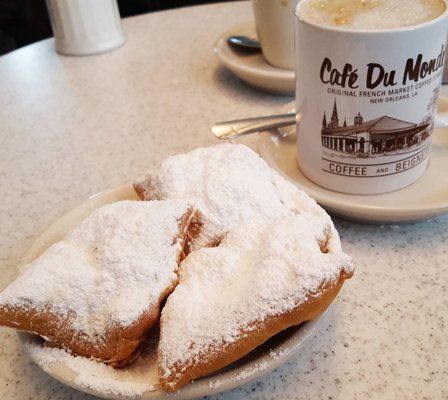pizza: (293, 0, 448, 195), (44, 0, 128, 57), (250, 0, 300, 70)
soup: (1, 140, 354, 395)
